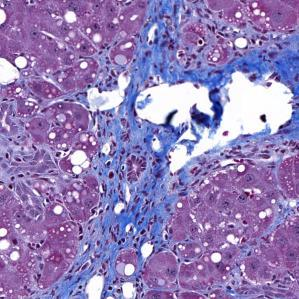fibrosis: (96, 122, 174, 242), (72, 248, 146, 299), (251, 38, 299, 77)
